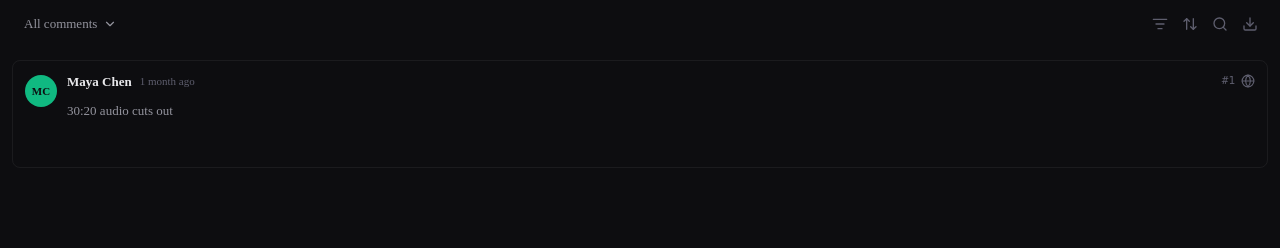
Test: a failed comment export › says something even when the error carries no message
The image size is (1280, 248).
Click the button titled "Export comments" at (1250,24), box [1236, 10, 1264, 38]
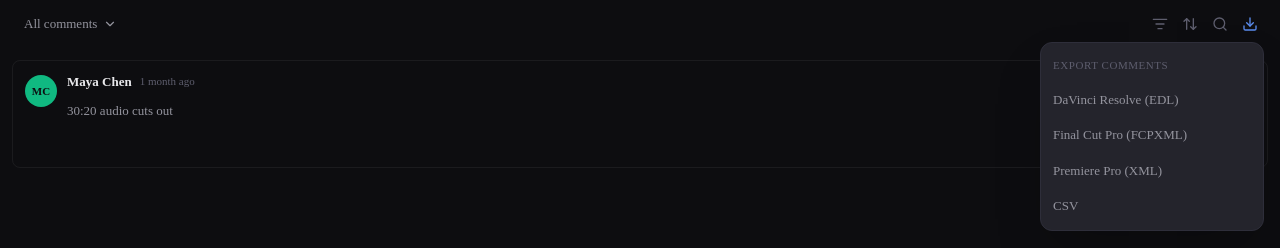
Click the button "CSV" at (1152,206), box [1041, 188, 1263, 224]
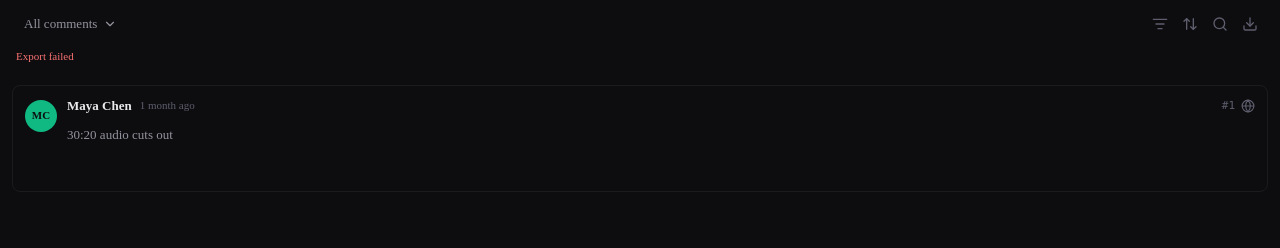
Expected: the text "Export failed" is shown, [16, 50, 74, 62]
